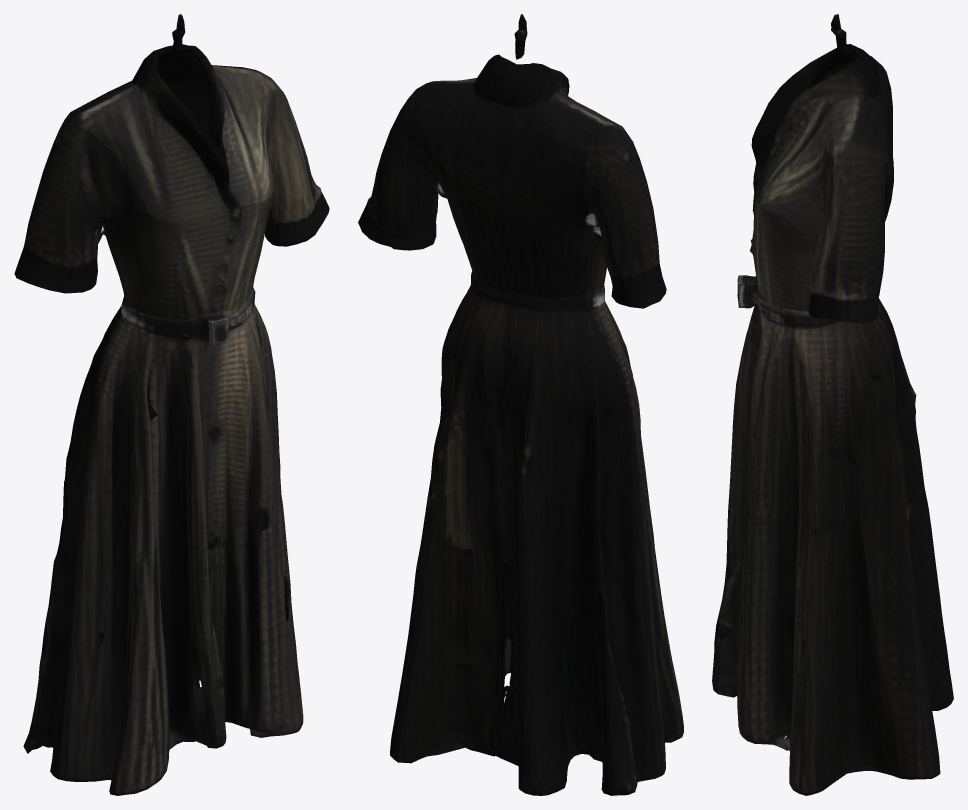
3 views of the same model, side by side, from view 1: azimuth 30°, elevation 25°; view 2: azimuth 150°, elevation 25°; view 3: azimuth 270°, elevation 25° (orthographic).
Parts seen in each view (by area): view 1: world; view 2: world; view 3: world.
Boxes of the visible parts, x1,y1,x2,y2 form: world: [14, 14, 329, 795]; world: [358, 14, 683, 795]; world: [712, 14, 953, 795].
Bounding box in the file's own units: 0.4339 × 0.997 × 0.2986.
1 material, 1 textured.
